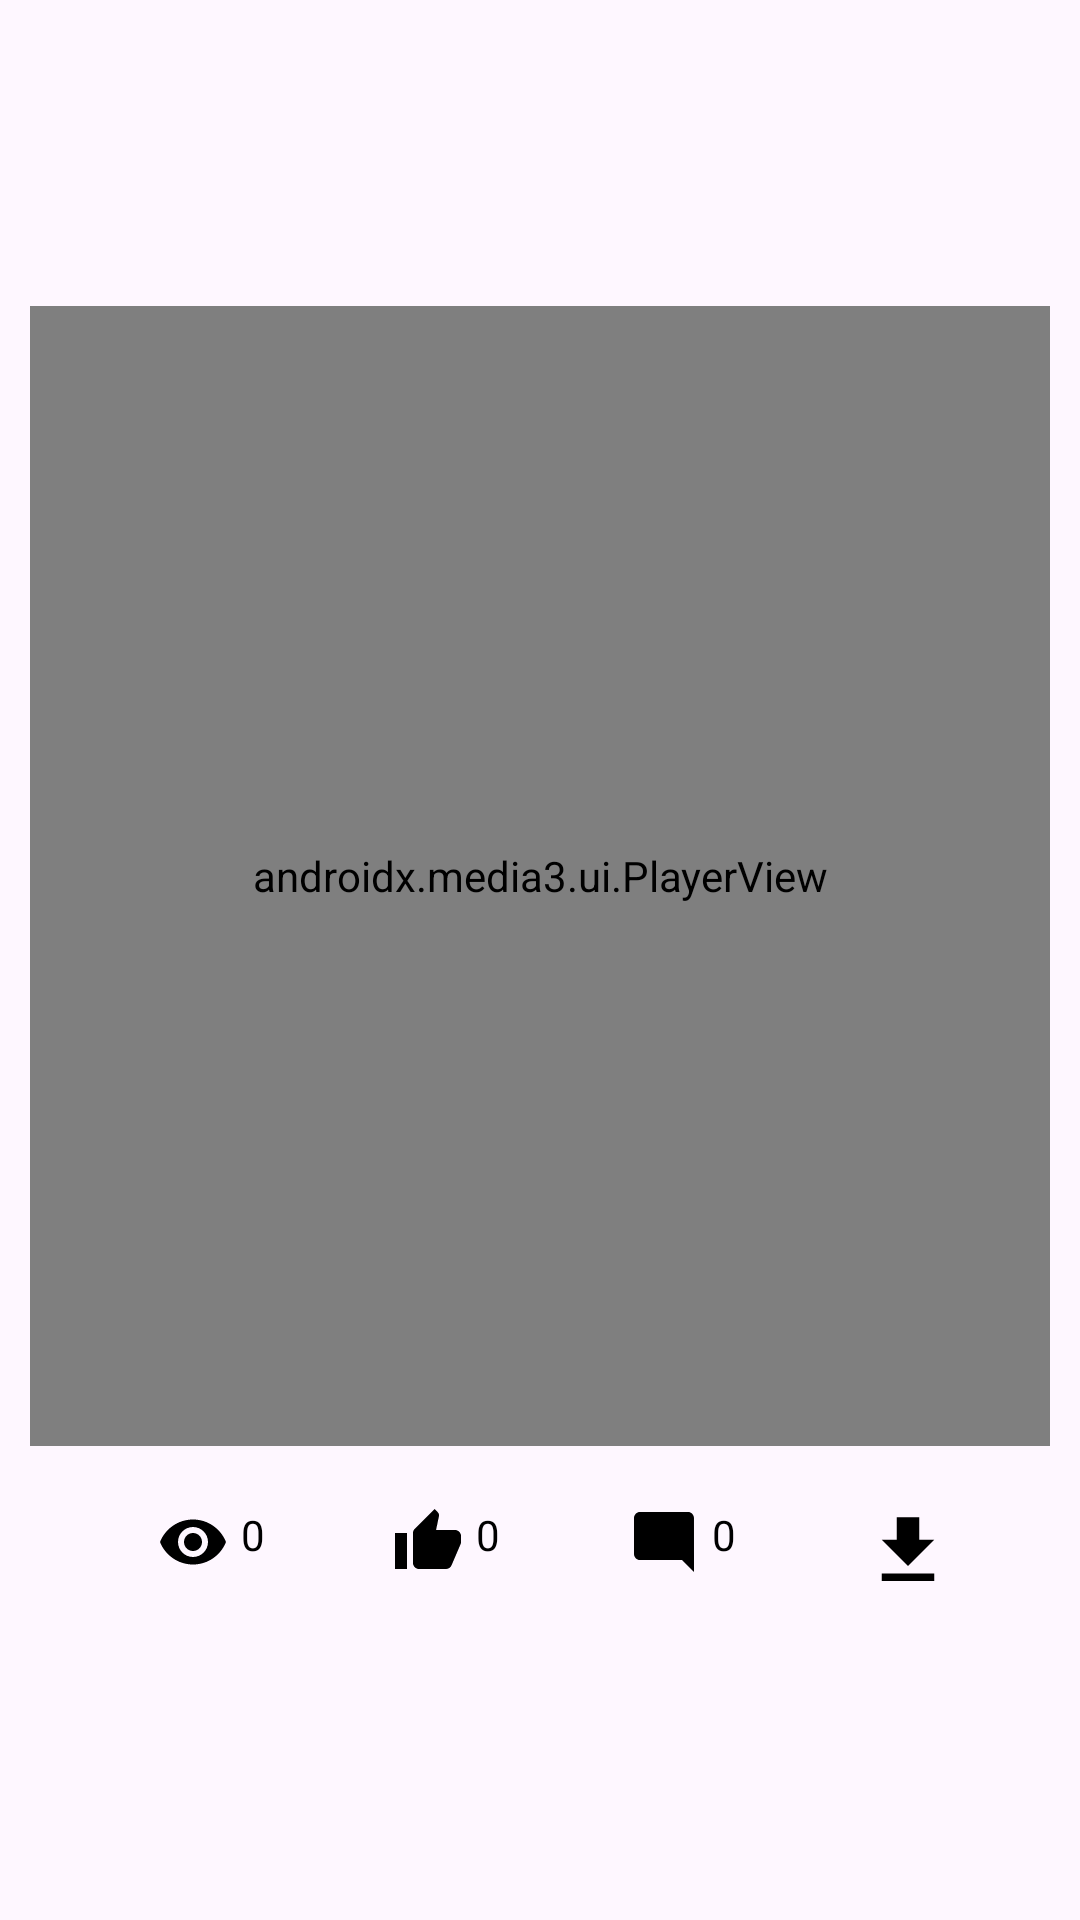

Screen size 1080w x 1920h. Icon name, then its center in pixels as [x,y]:
comment: [664,1542]
download: [908,1549]
eye: [193,1542]
thumb up: [428,1539]
